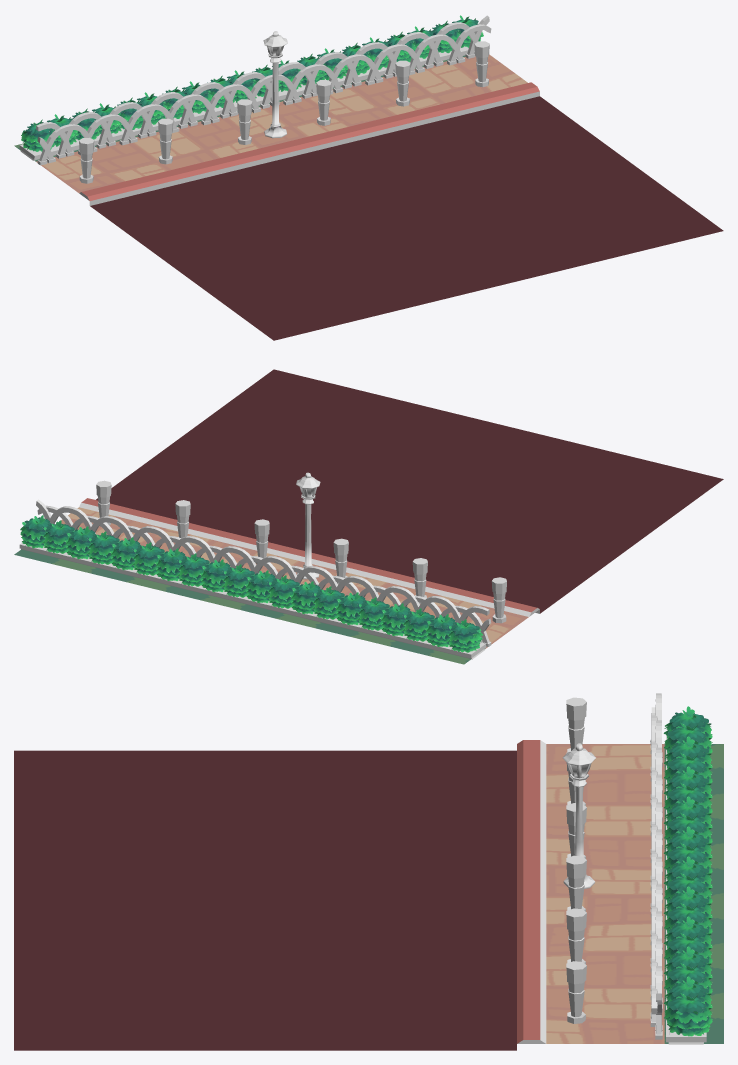
Rendered from Jalan.fbx.
3 renders of one model, top to bottom at view 1: azimuth 30°, elevation 25°; view 2: azimuth 150°, elevation 25°; view 3: azimuth 270°, elevation 25°, orthographic. The views are drawn at different scales.
Parts seen in each view (by area): view 1: Plane.010, Cube.021, Cube.027, Cylinder.001, Cube.004, park lamp.001; view 2: Plane.010, Cube.027, Cube.021, Cylinder.001, Cube.004, park lamp.001; view 3: Plane.010, Cube.027, Cylinder.001, Cube.021, park lamp.001, Cube.004.
Part boxes in pixels (left/top/right/bottom): Plane.010: left=14, top=54, right=723, bottom=340; Cube.021: left=36, top=15, right=491, bottom=165; Cube.027: left=21, top=15, right=483, bottom=151; Cylinder.001: left=79, top=41, right=489, bottom=183; Cube.004: left=19, top=46, right=468, bottom=160; park lamp.001: left=263, top=31, right=287, bottom=138; Plane.010: left=14, top=369, right=723, bottom=664; Cube.027: left=20, top=515, right=482, bottom=652; Cube.021: left=36, top=499, right=491, bottom=646; Cylinder.001: left=96, top=480, right=506, bottom=623; Cube.004: left=19, top=543, right=486, bottom=659; park lamp.001: left=296, top=472, right=320, bottom=579; Plane.010: left=14, top=740, right=723, bottom=1050; Cube.027: left=663, top=706, right=712, bottom=1036; Cylinder.001: left=566, top=697, right=586, bottom=1023; Cube.021: left=650, top=693, right=662, bottom=1039; park lamp.001: left=562, top=743, right=595, bottom=888; Cube.004: left=666, top=736, right=706, bottom=1044.
Size of the model in its own units: 2450 by 542 by 2399.
